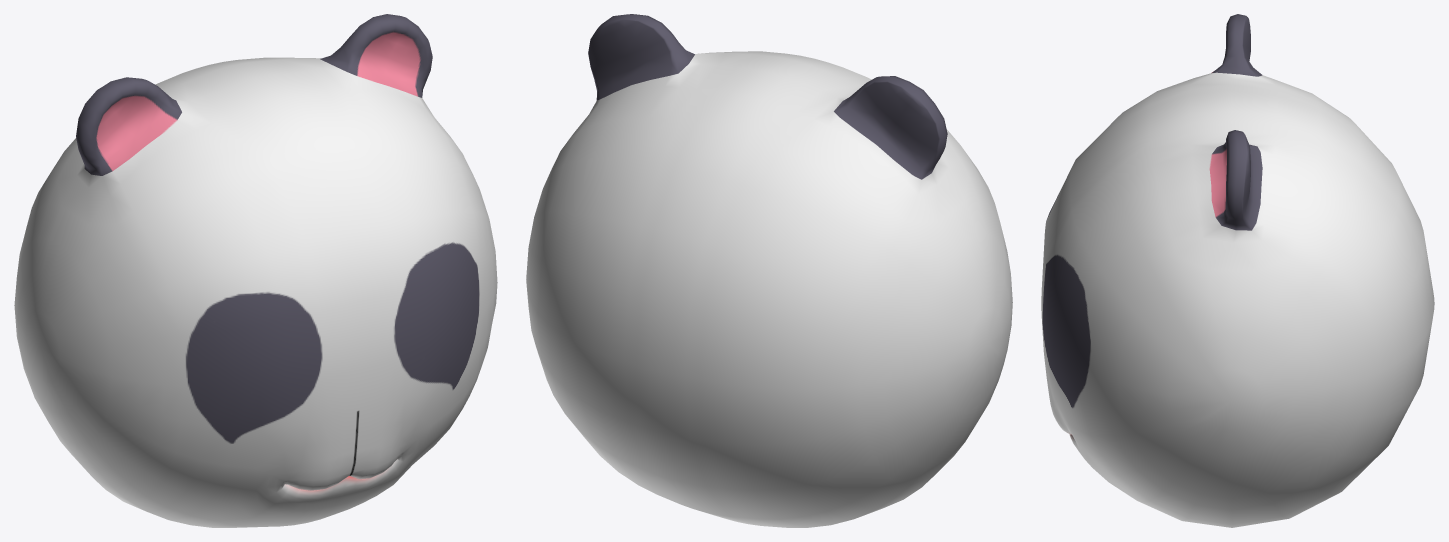
Rendered from panda_face.glb.
3 renders of one model, left to right at view 1: azimuth 30°, elevation 25°; view 2: azimuth 150°, elevation 25°; view 3: azimuth 270°, elevation 25°, orthographic. The views are drawn at different scales.
Visible parts, largest first — view 1: panda_face; view 2: panda_face; view 3: panda_face.
Part boxes in pixels (x1,y1,x2,y2): panda_face: (14,14,497,527); panda_face: (526,14,1012,527); panda_face: (1041,14,1434,527).
Bounding box in the file's own units: 0.00808 × 0.0082 × 0.00687.
Materials: 1 (1 with a texture image).
